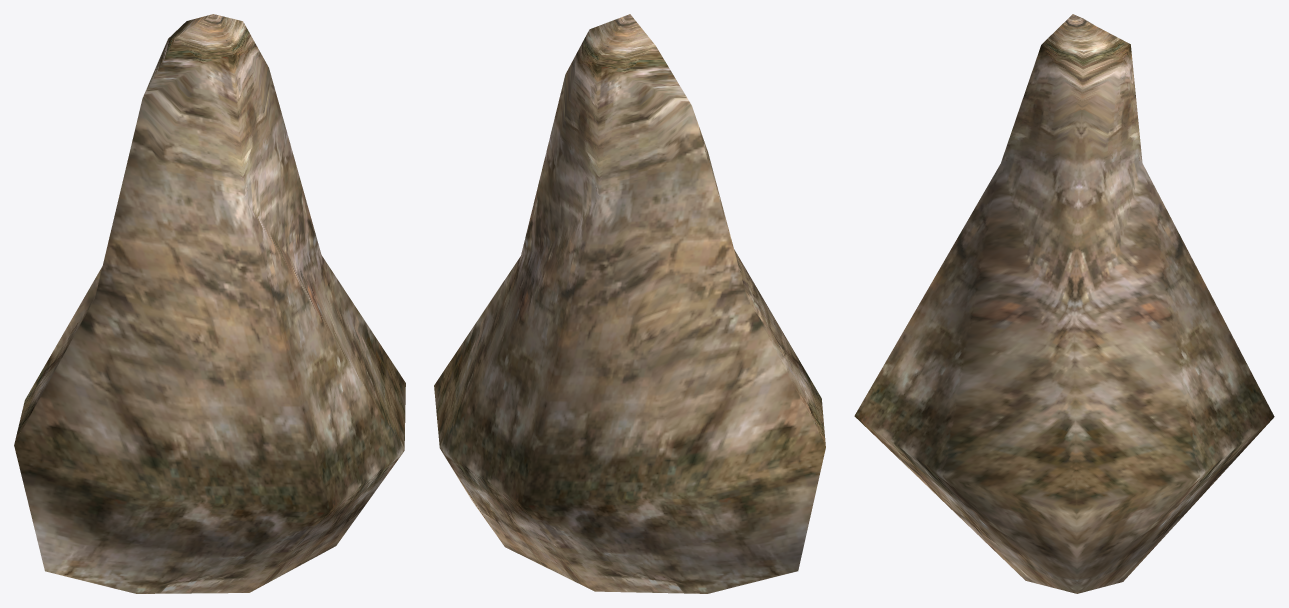
The model's file is thm_all_cave_stalagmite_c3_l1.fbx.
The picture shows the model from 3 angles, left to right: view 1: azimuth 30°, elevation 25°; view 2: azimuth 150°, elevation 25°; view 3: azimuth 270°, elevation 25°; orthographic projection. The views are drawn at different scales.
Parts seen in each view (by area): view 1: mesh_node; view 2: mesh_node; view 3: mesh_node.
Boxes of the visible parts, left/top/right/bottom form: mesh_node: left=14, top=14, right=405, bottom=593; mesh_node: left=434, top=14, right=825, bottom=593; mesh_node: left=854, top=14, right=1274, bottom=593.
Size of the model in its own units: 4.54 by 6.26 by 4.36.
